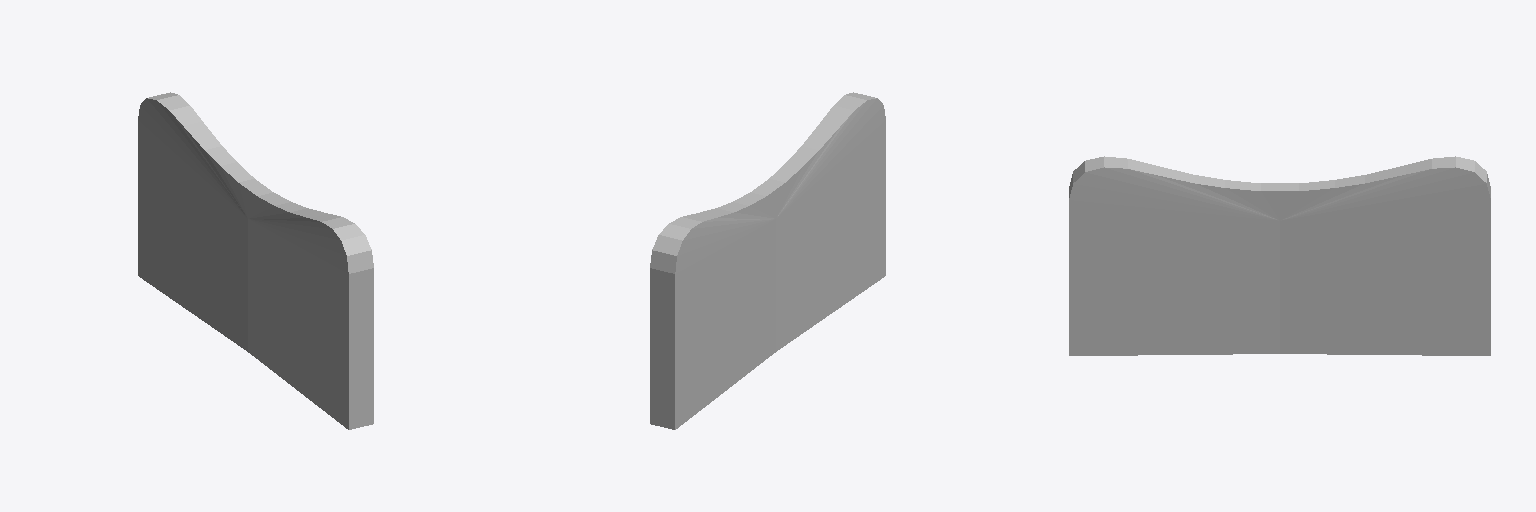
File: RIP3.obj
The picture shows the model from 3 angles: view 1: azimuth 30°, elevation 25°; view 2: azimuth 150°, elevation 25°; view 3: azimuth 270°, elevation 25°; orthographic projection.
Parts seen in each view (by area): view 1: Cube_Cube.001; view 2: Cube_Cube.001; view 3: Cube_Cube.001.
Part boxes in pixels (bbox=[...]): Cube_Cube.001: bbox=[138, 92, 373, 429]; Cube_Cube.001: bbox=[650, 92, 885, 429]; Cube_Cube.001: bbox=[1069, 156, 1490, 355].
Size of the model in its own units: 0.1562 by 1.11 by 2.25.